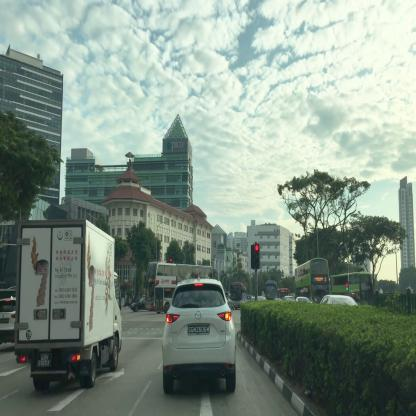red_traffic_light: (254, 244, 260, 270)
